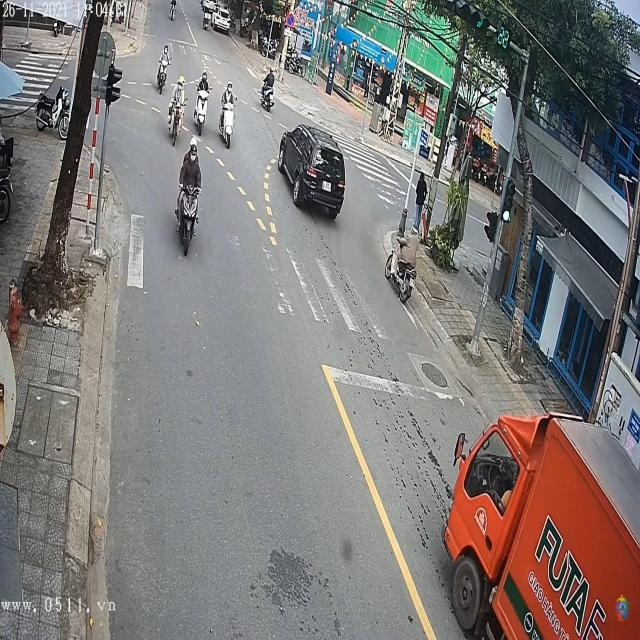car: (278, 125, 348, 221)
motorcycle: (177, 177, 202, 262), (168, 94, 188, 148), (216, 99, 237, 150), (193, 82, 211, 133), (260, 73, 277, 114), (156, 55, 170, 93)
truck: (438, 406, 640, 639)
